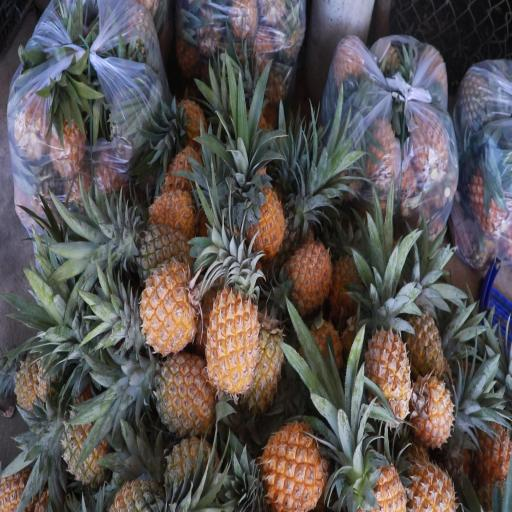------------------------------: (61, 401, 113, 488), (133, 218, 193, 280)
Pineapple - v8 v1: (203, 264, 262, 400), (258, 413, 328, 512), (144, 351, 223, 437), (136, 258, 200, 360), (362, 302, 412, 429), (242, 299, 286, 416), (278, 228, 337, 314), (344, 439, 410, 512), (239, 166, 286, 252), (403, 442, 458, 512), (402, 305, 450, 384), (411, 368, 455, 447), (146, 180, 200, 244), (172, 88, 207, 153)
